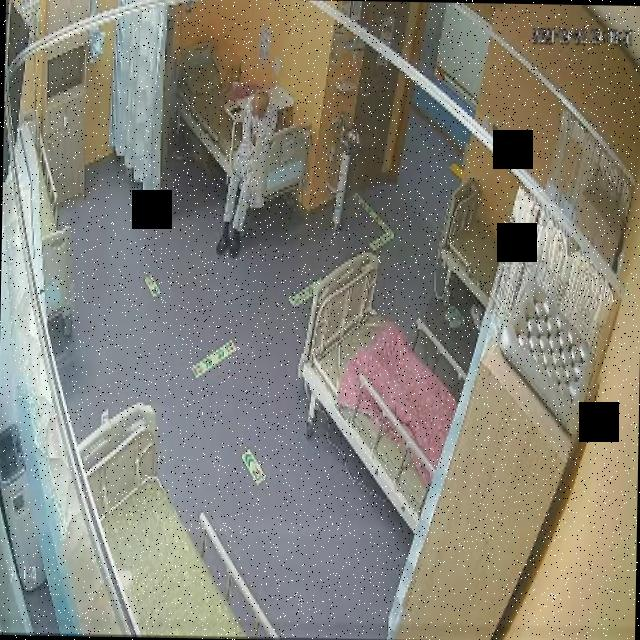bed: (74, 398, 282, 640), (300, 252, 460, 528), (172, 43, 312, 208), (437, 180, 504, 308)
patient: (214, 87, 281, 258)
sit: (213, 87, 281, 258)
